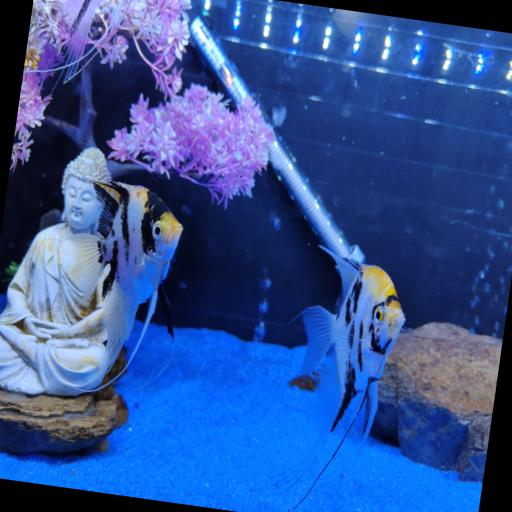Fish: (294, 247, 404, 508), (73, 181, 181, 376), (59, 0, 101, 82)
